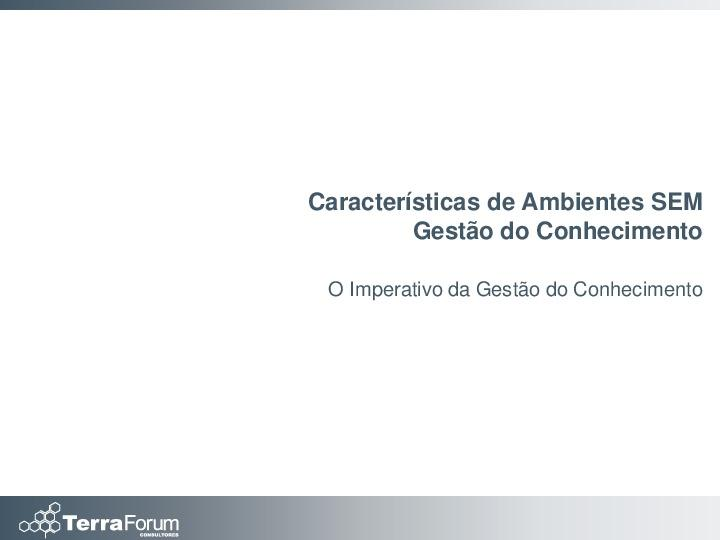subtitle: (309, 272, 714, 313)
title: (301, 175, 716, 258)
